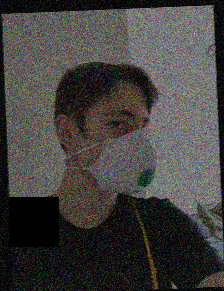with_mask: (93, 93, 157, 195)
